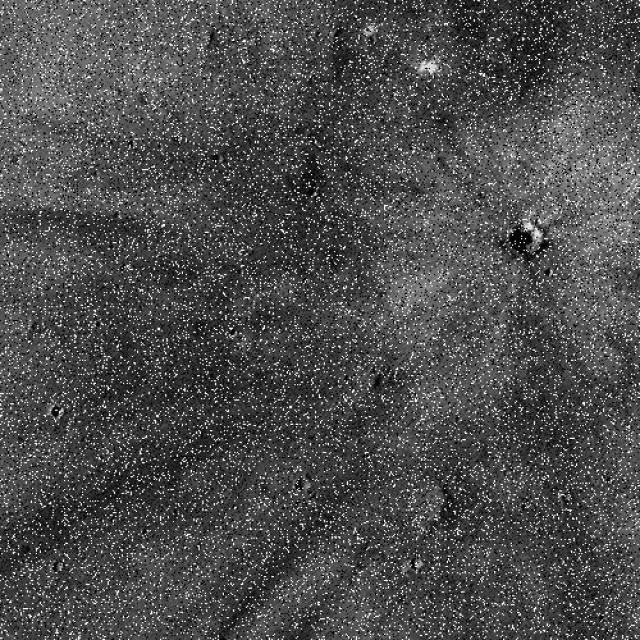crater: (509, 218, 546, 258), (252, 64, 292, 96), (0, 16, 26, 64), (540, 480, 584, 508), (38, 398, 72, 428), (295, 178, 331, 206), (288, 470, 322, 498), (522, 619, 564, 640), (397, 549, 427, 577), (290, 266, 322, 292), (42, 556, 70, 584), (550, 180, 574, 212), (202, 146, 234, 170), (168, 124, 196, 150), (342, 265, 370, 287), (142, 511, 164, 537), (123, 132, 145, 156), (223, 320, 245, 344), (512, 496, 536, 518), (0, 619, 22, 640), (536, 266, 558, 286), (0, 184, 14, 214), (602, 469, 618, 492), (0, 36, 13, 64), (0, 622, 20, 640), (603, 122, 625, 138), (10, 152, 30, 168), (0, 347, 14, 369), (231, 264, 253, 278), (92, 314, 109, 332), (94, 342, 112, 358), (0, 568, 12, 588), (0, 122, 9, 144), (0, 372, 10, 390), (0, 440, 9, 460), (0, 36, 10, 52), (0, 372, 10, 386), (0, 630, 13, 640), (0, 596, 8, 612), (0, 447, 8, 462), (0, 631, 13, 640), (0, 631, 9, 640), (0, 437, 6, 450), (558, 635, 572, 640), (0, 632, 8, 640)
